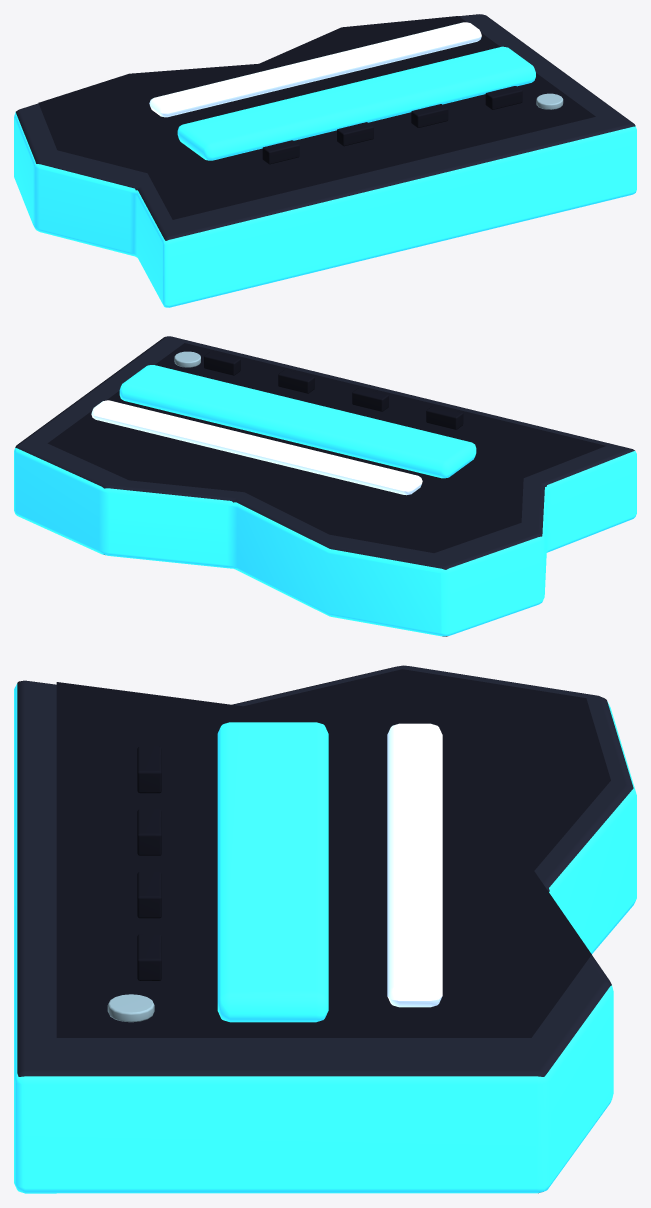
The model's file is tape_piece_4.glb.
The picture shows the model from 3 angles, top to bottom: view 1: azimuth 30°, elevation 25°; view 2: azimuth 150°, elevation 25°; view 3: azimuth 270°, elevation 25°; orthographic projection. The views are drawn at different scales.
Visible parts, largest first — view 1: 04_Blue_LowerRight | broken shell, 04_Blue_LowerRight | inset face, Lower cassette grip.001, Readable dark label stripe.001, Magnetic window slat 0.001, Magnetic window slat 3.001, Magnetic window slat 2.001, Magnetic window slat 1.001; view 2: 04_Blue_LowerRight | broken shell, 04_Blue_LowerRight | inset face, Lower cassette grip.001, Readable dark label stripe.001, Magnetic window slat 0.001, Magnetic window slat 2.001, Magnetic window slat 3.001, Magnetic window slat 1.001; view 3: 04_Blue_LowerRight | inset face, 04_Blue_LowerRight | broken shell, Lower cassette grip.001, Readable dark label stripe.001, Magnetic window slat 0.001, Magnetic window slat 1.001, Magnetic window slat 3.001, Magnetic window slat 2.001, Corner screw.003.
Boxes of the visible parts, x1,y1,x2,y2 form: 04_Blue_LowerRight | broken shell: [14, 14, 636, 307]; 04_Blue_LowerRight | inset face: [38, 16, 595, 219]; Lower cassette grip.001: [177, 46, 535, 160]; Readable dark label stripe.001: [149, 22, 481, 117]; Magnetic window slat 0.001: [262, 140, 299, 164]; Magnetic window slat 3.001: [485, 86, 522, 109]; Magnetic window slat 2.001: [411, 104, 448, 127]; Magnetic window slat 1.001: [337, 122, 373, 146]; 04_Blue_LowerRight | broken shell: [14, 336, 636, 636]; 04_Blue_LowerRight | inset face: [47, 343, 605, 552]; Lower cassette grip.001: [119, 365, 476, 478]; Readable dark label stripe.001: [91, 400, 422, 495]; Magnetic window slat 0.001: [426, 405, 463, 429]; Magnetic window slat 2.001: [278, 369, 314, 393]; Magnetic window slat 3.001: [204, 351, 240, 375]; Magnetic window slat 1.001: [352, 387, 388, 411]; 04_Blue_LowerRight | inset face: [56, 669, 610, 1037]; 04_Blue_LowerRight | broken shell: [14, 665, 636, 1193]; Lower cassette grip.001: [217, 722, 328, 1022]; Readable dark label stripe.001: [387, 723, 442, 1007]; Magnetic window slat 0.001: [137, 746, 161, 793]; Magnetic window slat 1.001: [137, 809, 161, 855]; Magnetic window slat 3.001: [137, 934, 161, 980]; Magnetic window slat 2.001: [137, 872, 161, 918]; Corner screw.003: [107, 994, 154, 1022].
Size of the model in its own units: 1.59 by 0.305 by 1.01.
